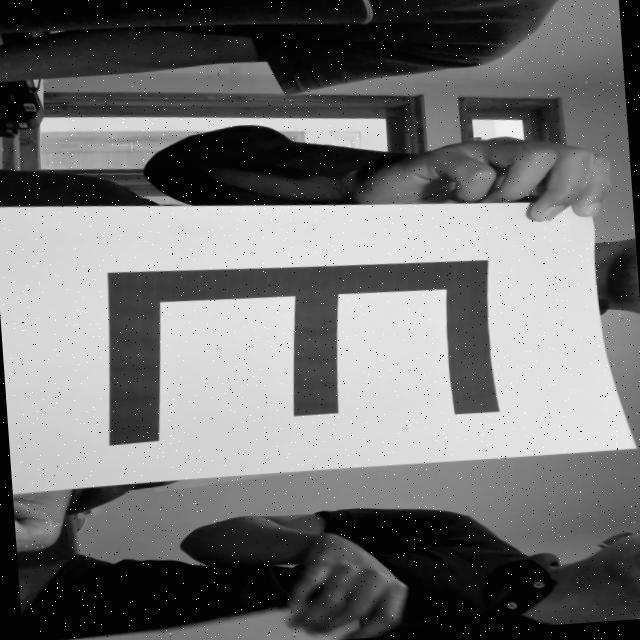e: (64, 238, 520, 462)
